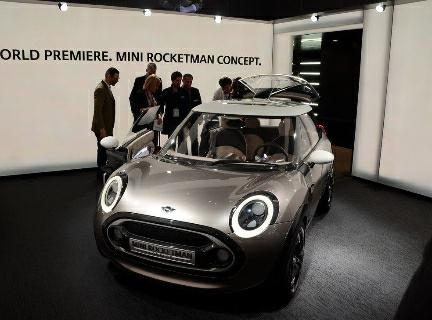MINI-ROCKETMAN: (91, 92, 338, 299)
